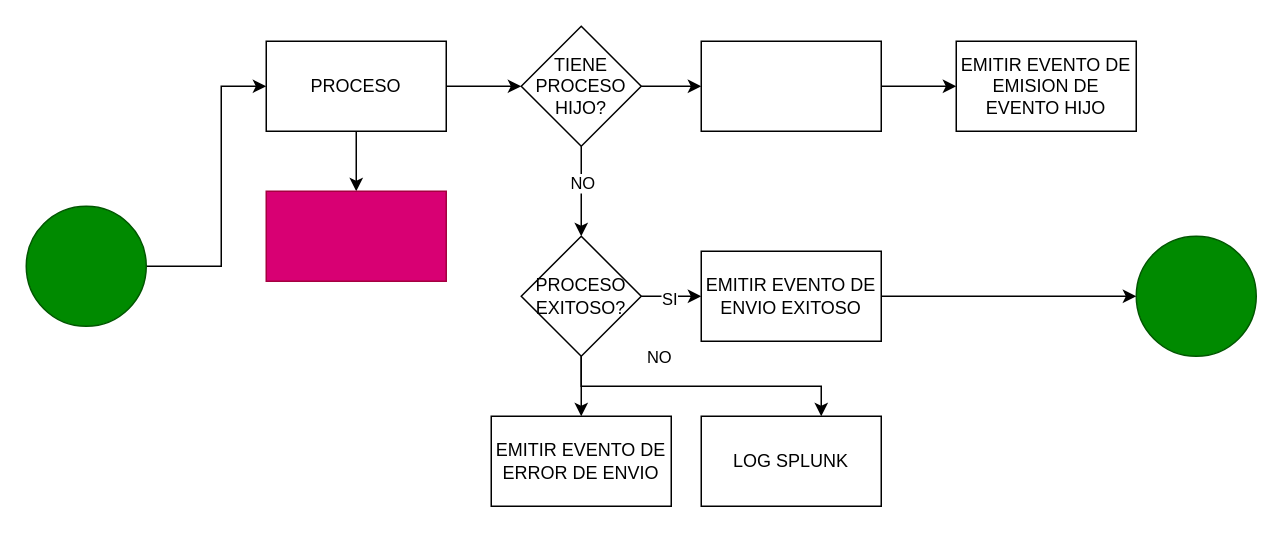
Image size: 1283x533. Some labels were removed from this diagram. Here are the shapes that lost their labels. From the top down, the box of each, then its label:
(700, 40, 881, 131): EMITIR EVENTO HIJO
(265, 190, 446, 281): EMITIR EVENTO DE INICIO DE PROCESAMIENTO
(25, 205, 146, 326): INICIO
(1135, 235, 1256, 356): FIN
